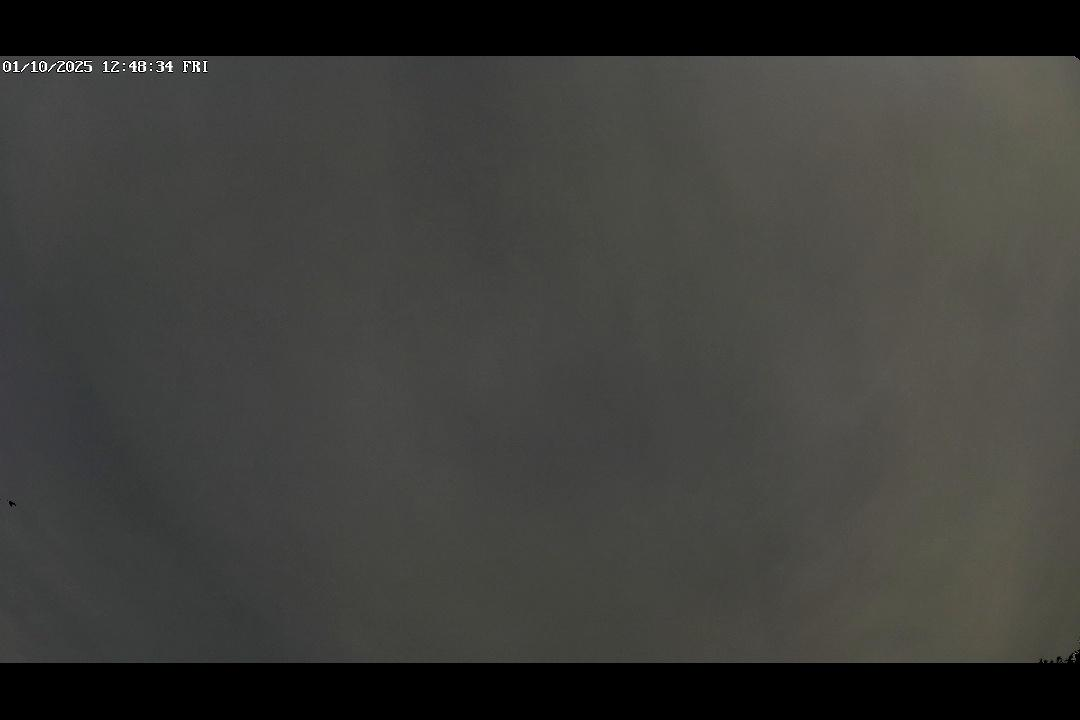WildLife: (0, 493, 30, 514)
